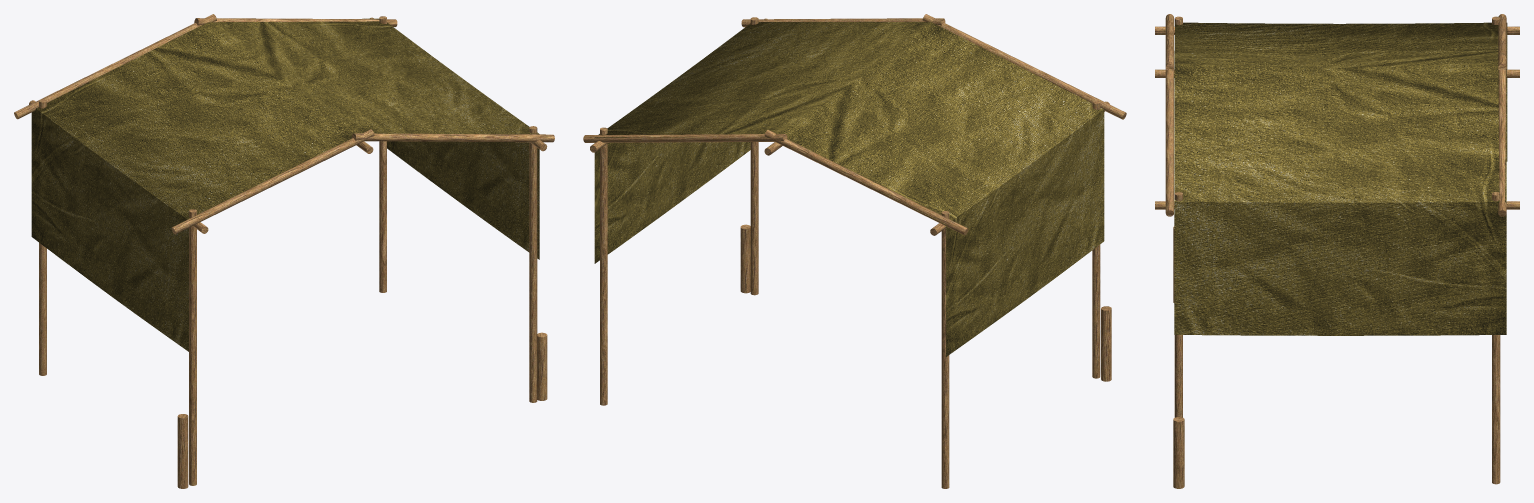
Rendered from estructura_madera2.fbx.
3 renders of one model, left to right at view 1: azimuth 30°, elevation 25°; view 2: azimuth 150°, elevation 25°; view 3: azimuth 270°, elevation 25°, orthographic. The views are drawn at different scales.
Parts seen in each view (by area): view 1: ClothArched_4, PolesArched_5; view 2: ClothArched_4, PolesArched_5; view 3: ClothArched_4, PolesArched_5.
Part boxes in pixels (box(x1,y1,x2,y2)): ClothArched_4: box(31, 18, 539, 351); PolesArched_5: box(14, 14, 554, 488); ClothArched_4: box(594, 22, 1104, 356); PolesArched_5: box(583, 14, 1126, 488); ClothArched_4: box(1174, 22, 1507, 335); PolesArched_5: box(1155, 14, 1519, 488).
Size of the model in its own units: 234 by 185 by 183.
2 materials, 2 textured.
